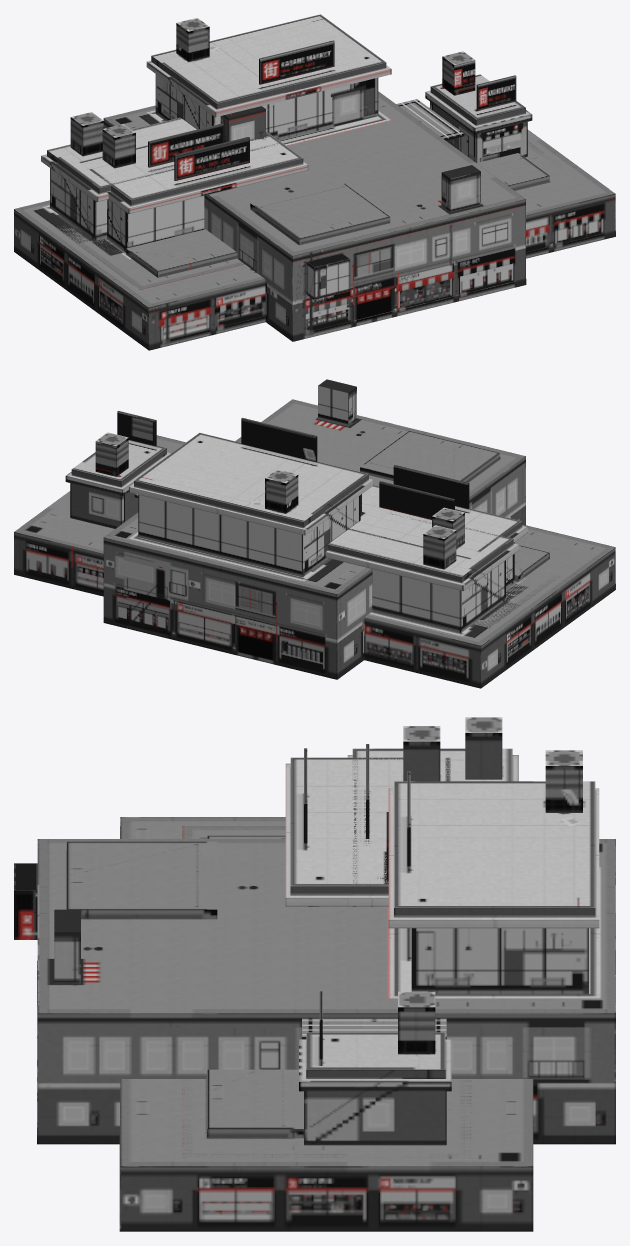
Rendered from market_far-CFLolmcw.glb.
3 views of the same model, one above another, from view 1: azimuth 30°, elevation 25°; view 2: azimuth 150°, elevation 25°; view 3: azimuth 270°, elevation 25° (orthographic). The views are drawn at different scales.
Visible parts, largest first — view 1: far_marketHall-36, far_marketHall-19, far_marketHall-2, far_marketHall-4; view 2: far_marketHall-36, far_marketHall-19, far_marketHall-2, far_marketHall-4; view 3: far_marketHall-36, far_marketHall-19, far_marketHall-2, far_marketHall-4.
Part boxes in pixels (bbox=[...]): far_marketHall-36: bbox=[103, 14, 526, 341]; far_marketHall-19: bbox=[14, 107, 615, 350]; far_marketHall-2: bbox=[56, 106, 561, 289]; far_marketHall-4: bbox=[126, 51, 532, 277]; far_marketHall-36: bbox=[103, 379, 525, 679]; far_marketHall-19: bbox=[14, 435, 615, 688]; far_marketHall-2: bbox=[348, 465, 570, 628]; far_marketHall-4: bbox=[65, 411, 549, 581]; far_marketHall-36: bbox=[14, 750, 615, 1144]; far_marketHall-19: bbox=[119, 717, 533, 1231]; far_marketHall-2: bbox=[182, 726, 471, 1157]; far_marketHall-4: bbox=[207, 835, 451, 1145].
Size of the model in its own units: 40 by 14.2 by 29.15.
1 material, 1 textured.
